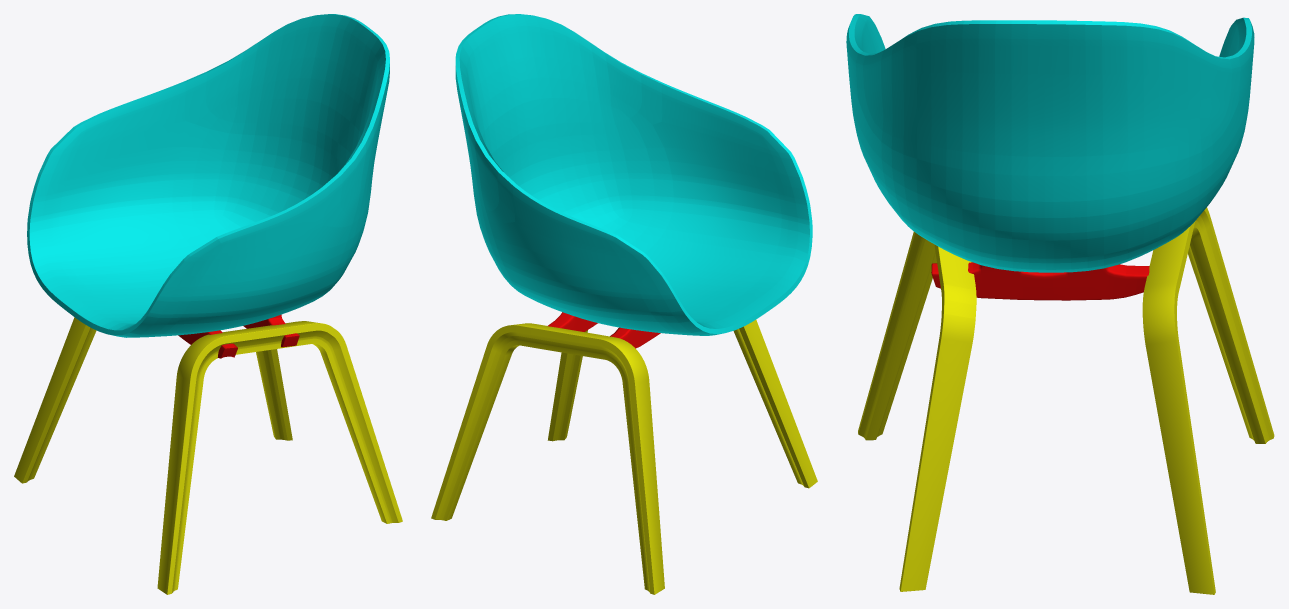
The model's file is OM_3BHK_CM_Dining_Chair.fbx.
3 renders of one model, left to right at view 1: azimuth 30°, elevation 25°; view 2: azimuth 150°, elevation 25°; view 3: azimuth 270°, elevation 25°, orthographic. The views are drawn at different scales.
Parts seen in each view (by area): view 1: OM_3BHK_CM_Dining_Chair_Top, OM_3BHK_CM_Dining_Chair_Legs, OM_3BHK_CM_Dining_Chair_Support; view 2: OM_3BHK_CM_Dining_Chair_Top, OM_3BHK_CM_Dining_Chair_Legs, OM_3BHK_CM_Dining_Chair_Support; view 3: OM_3BHK_CM_Dining_Chair_Top, OM_3BHK_CM_Dining_Chair_Legs, OM_3BHK_CM_Dining_Chair_Support.
Boxes of the visible parts, bbox=[...] form: OM_3BHK_CM_Dining_Chair_Top: bbox=[27, 14, 389, 337]; OM_3BHK_CM_Dining_Chair_Legs: bbox=[14, 317, 402, 594]; OM_3BHK_CM_Dining_Chair_Support: bbox=[178, 314, 299, 358]; OM_3BHK_CM_Dining_Chair_Top: bbox=[455, 14, 812, 335]; OM_3BHK_CM_Dining_Chair_Legs: bbox=[431, 319, 817, 594]; OM_3BHK_CM_Dining_Chair_Support: bbox=[548, 312, 660, 348]; OM_3BHK_CM_Dining_Chair_Top: bbox=[846, 14, 1254, 272]; OM_3BHK_CM_Dining_Chair_Legs: bbox=[858, 207, 1274, 594]; OM_3BHK_CM_Dining_Chair_Support: bbox=[931, 262, 1149, 300].
Bounding box in the file's own units: 2.65 × 3.78 × 2.51.
